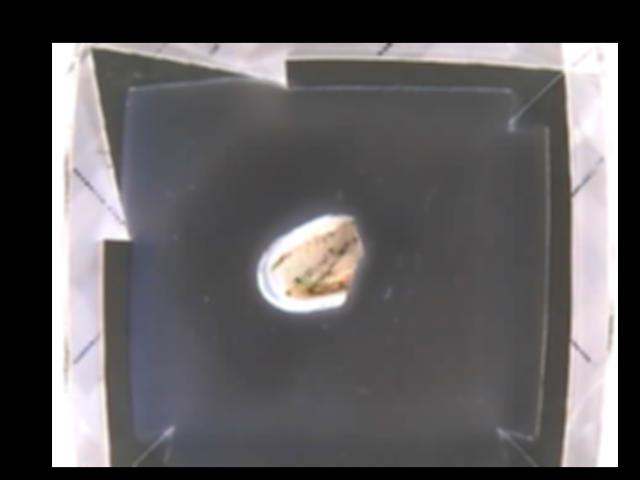Shell: (257, 212, 363, 311)
